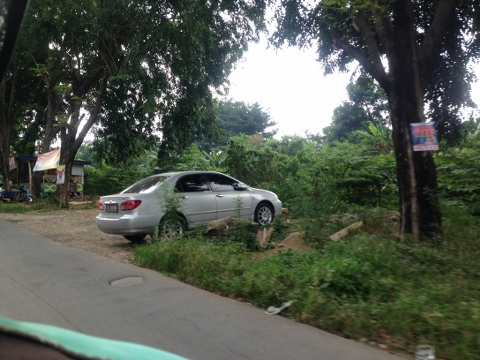mobil: (95, 171, 282, 241)
